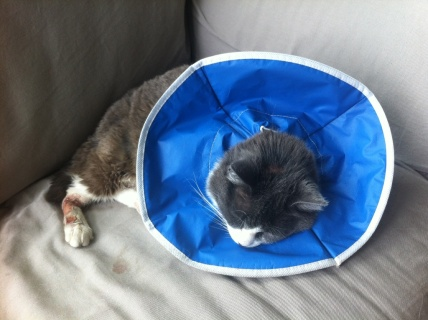Cat: (46, 59, 332, 252)
